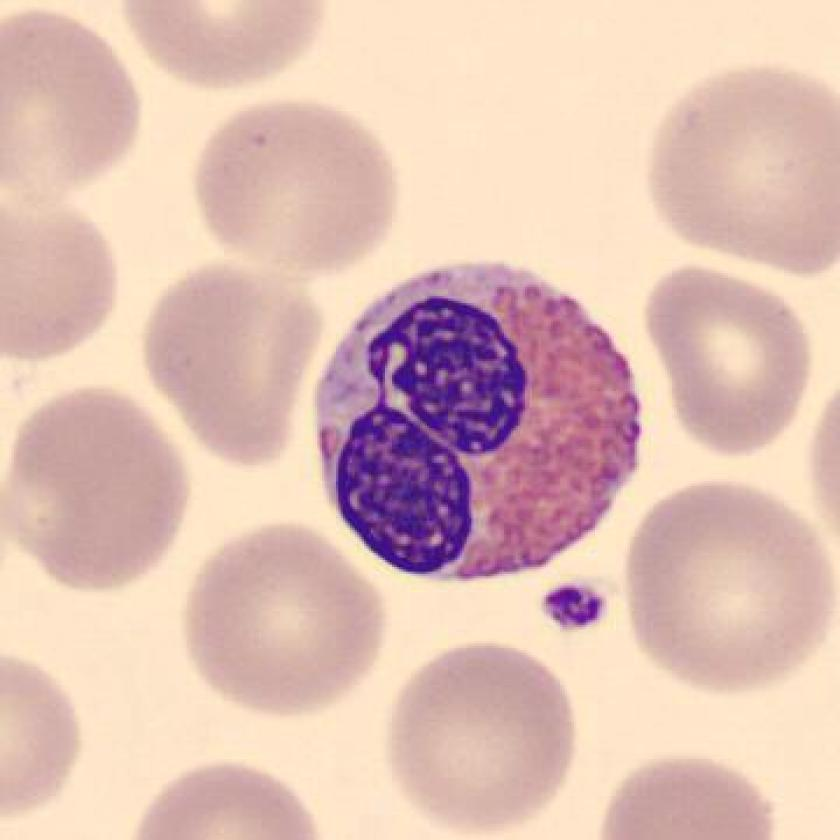eosinophil: (302, 247, 650, 608)
